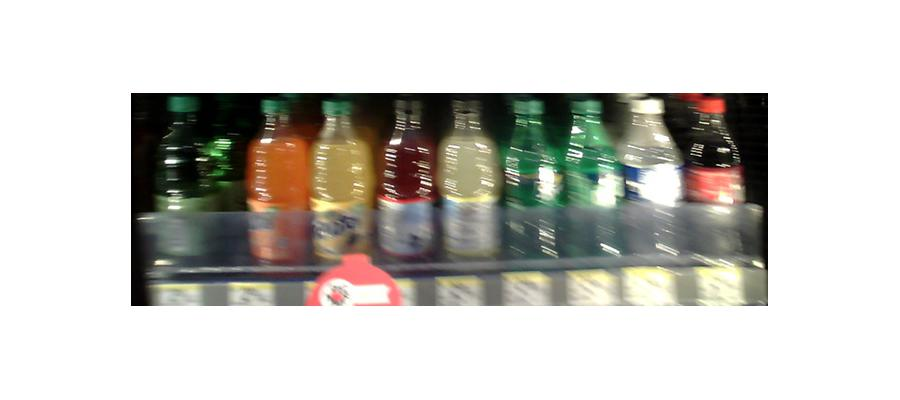bottle: (679, 91, 747, 307), (621, 88, 679, 293), (562, 89, 620, 285), (246, 96, 308, 269), (377, 99, 437, 267), (502, 88, 556, 273), (311, 95, 370, 264), (440, 98, 498, 267)
